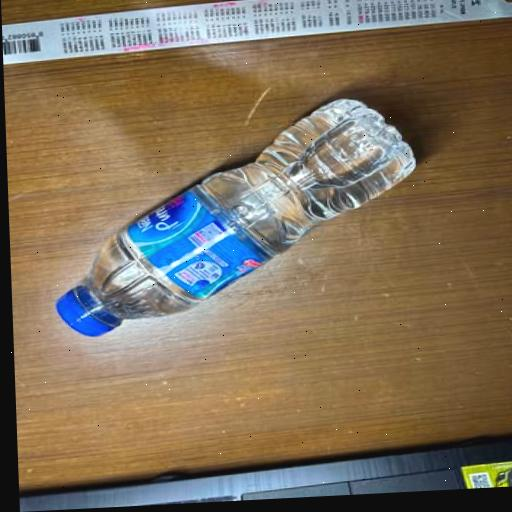bottle: (25, 73, 445, 368)
